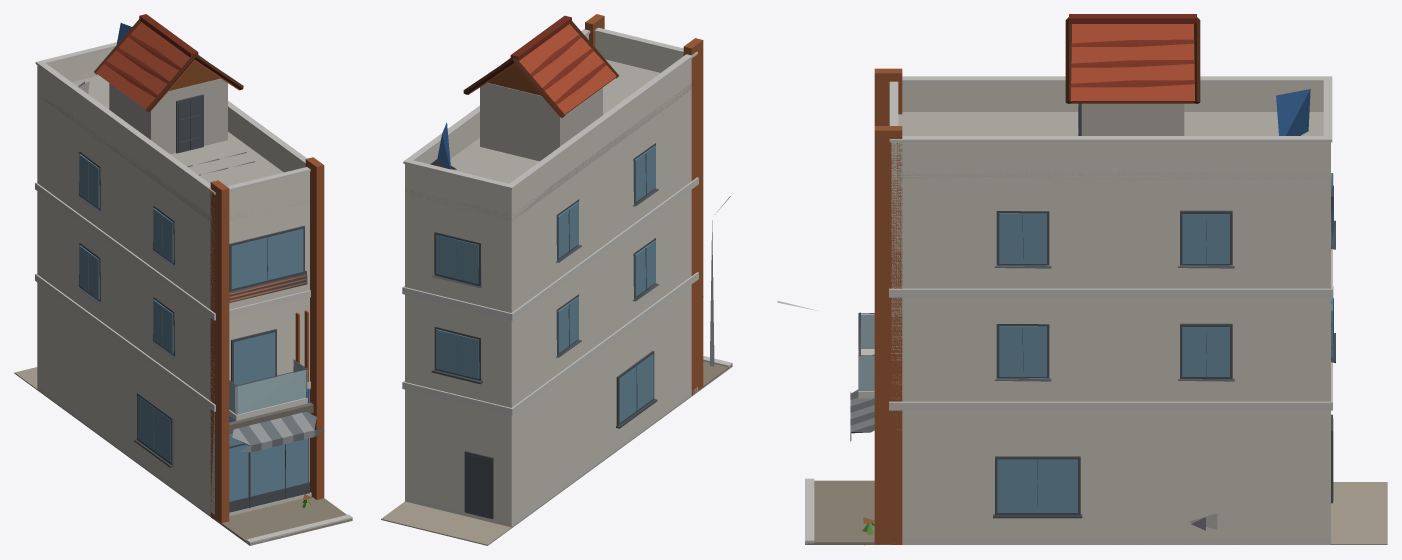
File: bay1_one.glb
3 views of the same model, side by side, from view 1: azimuth 30°, elevation 25°; view 2: azimuth 150°, elevation 25°; view 3: azimuth 270°, elevation 25° (orthographic). The views are drawn at different scales.
Visible parts, largest first — view 1: body; view 2: body; view 3: body.
Boxes of the visible parts, bbox=[...] form: body: bbox=[14, 14, 352, 545]; body: bbox=[381, 14, 732, 545]; body: bbox=[777, 14, 1387, 545].
Bounding box in the file's own units: 4.71 × 15.27 × 16.88.
